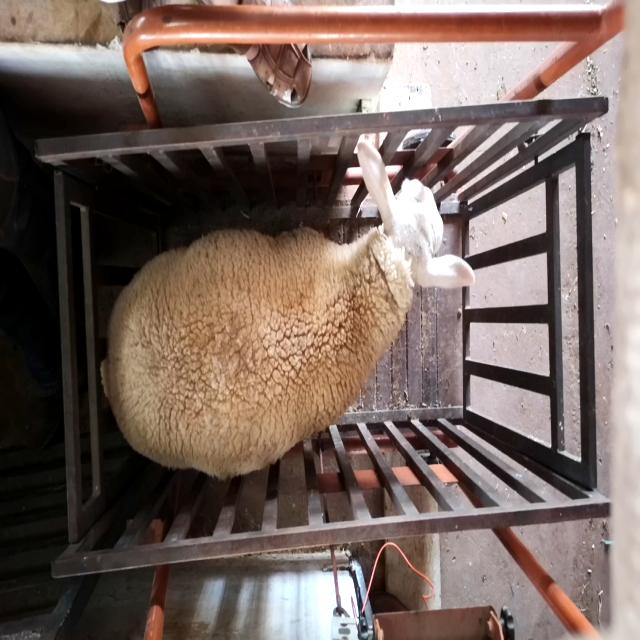sheep: (100, 141, 475, 479)
